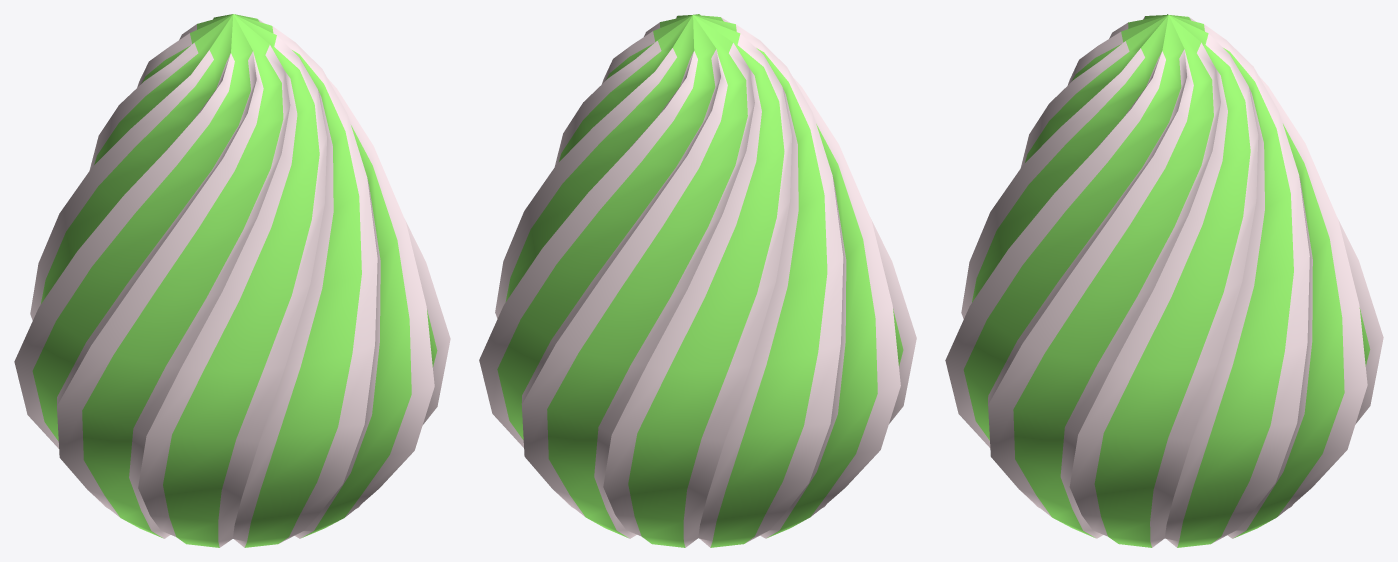
Rendered from Ice Cream Spiral A White Green.fbx.
3 renders of one model, left to right at view 1: azimuth 30°, elevation 25°; view 2: azimuth 150°, elevation 25°; view 3: azimuth 270°, elevation 25°, orthographic.
Parts seen in each view (by area): view 1: Ice Cream Spiral A White Green; view 2: Ice Cream Spiral A White Green; view 3: Ice Cream Spiral A White Green.
Boxes of the visible parts, box(x1,y1,x2,y2) form: Ice Cream Spiral A White Green: box(14, 14, 450, 547); Ice Cream Spiral A White Green: box(479, 14, 916, 547); Ice Cream Spiral A White Green: box(945, 14, 1383, 547).
Bounding box in the file's own units: 0.4046 × 0.4954 × 0.4046.
